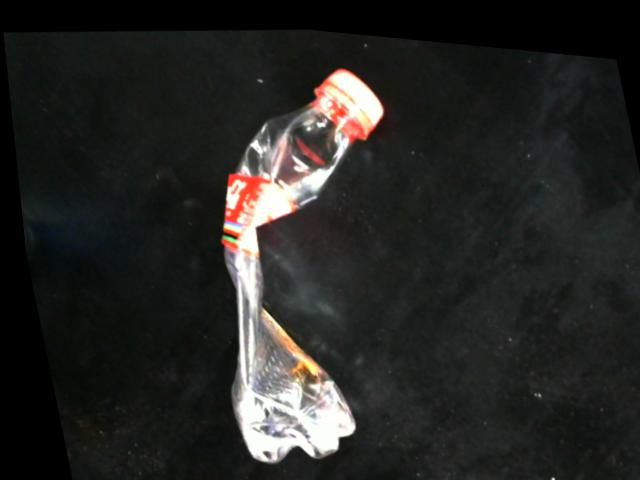bottle: (214, 58, 383, 463)
